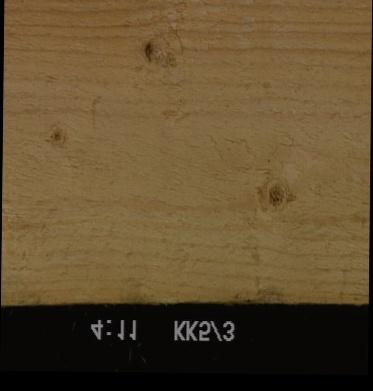small_knot: (46, 127, 65, 148)
sound_knot: (255, 176, 295, 211)
split: (321, 259, 368, 304)
